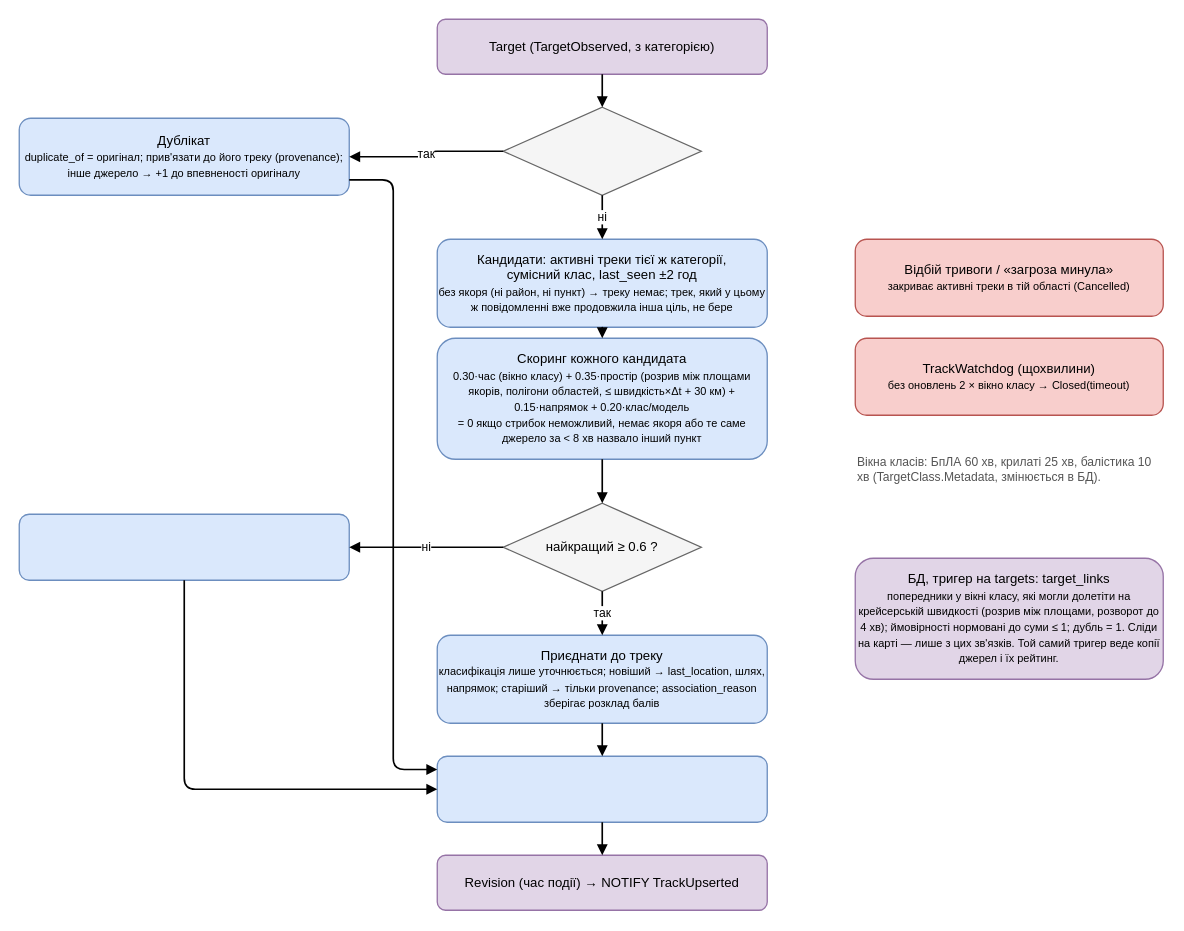
The diagram is 1184 pixels wide and 931 high, and some of its shapes have lost their labels. Here are the shapes that lost their labels. From the top down, the box of each, then its label:
(502, 106, 701, 195): є таке саме за ±3 хв з іншого повідомлення?
(18, 513, 349, 580): Новий TargetTrack association_confidence = 1
(436, 755, 767, 822): track_confidence = найкраща target +1 за ≥2 джерела, +1 за ≥3 повідомлення
